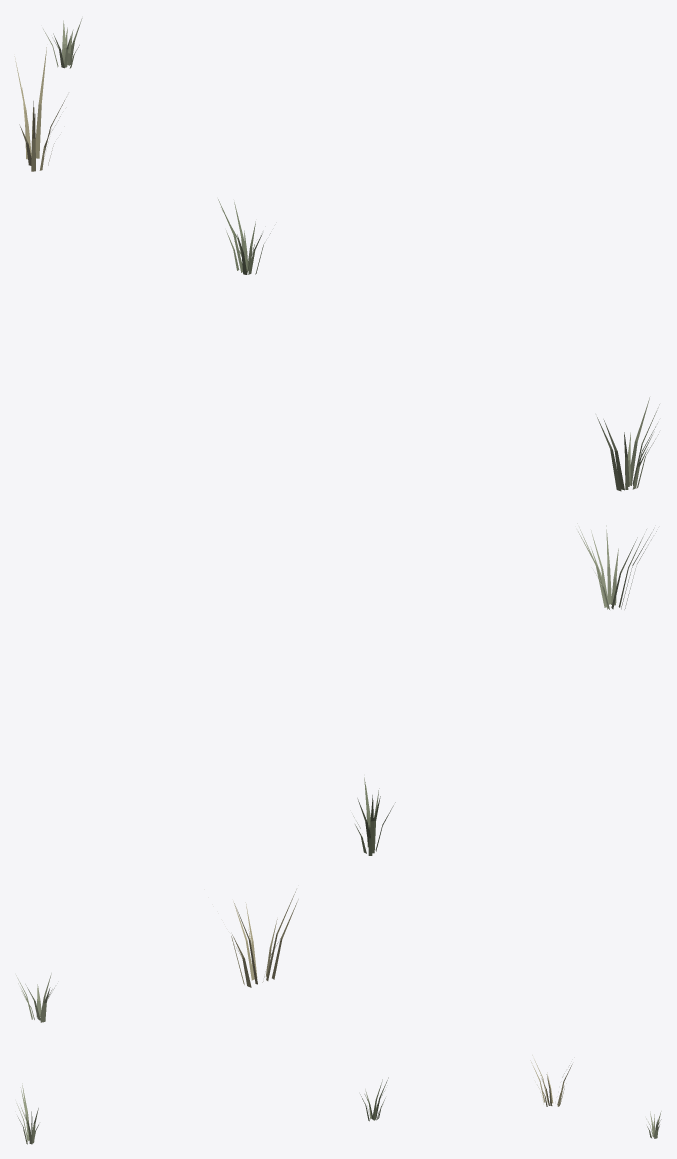
The model's file is AE_Grass_1_-1.fbx.
3 renders of one model, top to bottom at view 1: azimuth 30°, elevation 25°; view 2: azimuth 150°, elevation 25°; view 3: azimuth 270°, elevation 25°, orthographic. The views are drawn at different scales.
Visible parts, largest first — view 1: AE_Grass_1_-1_LOD0; view 2: AE_Grass_1_-1_LOD0; view 3: AE_Grass_1_-1_LOD0.
Boxes of the visible parts, x1,y1,x2,y2 form: AE_Grass_1_-1_LOD0: [14, 18, 659, 491]; AE_Grass_1_-1_LOD0: [16, 523, 656, 1022]; AE_Grass_1_-1_LOD0: [16, 1055, 661, 1144].
Size of what is drawn, in the model's own units: 174 by 99.03 by 990.
